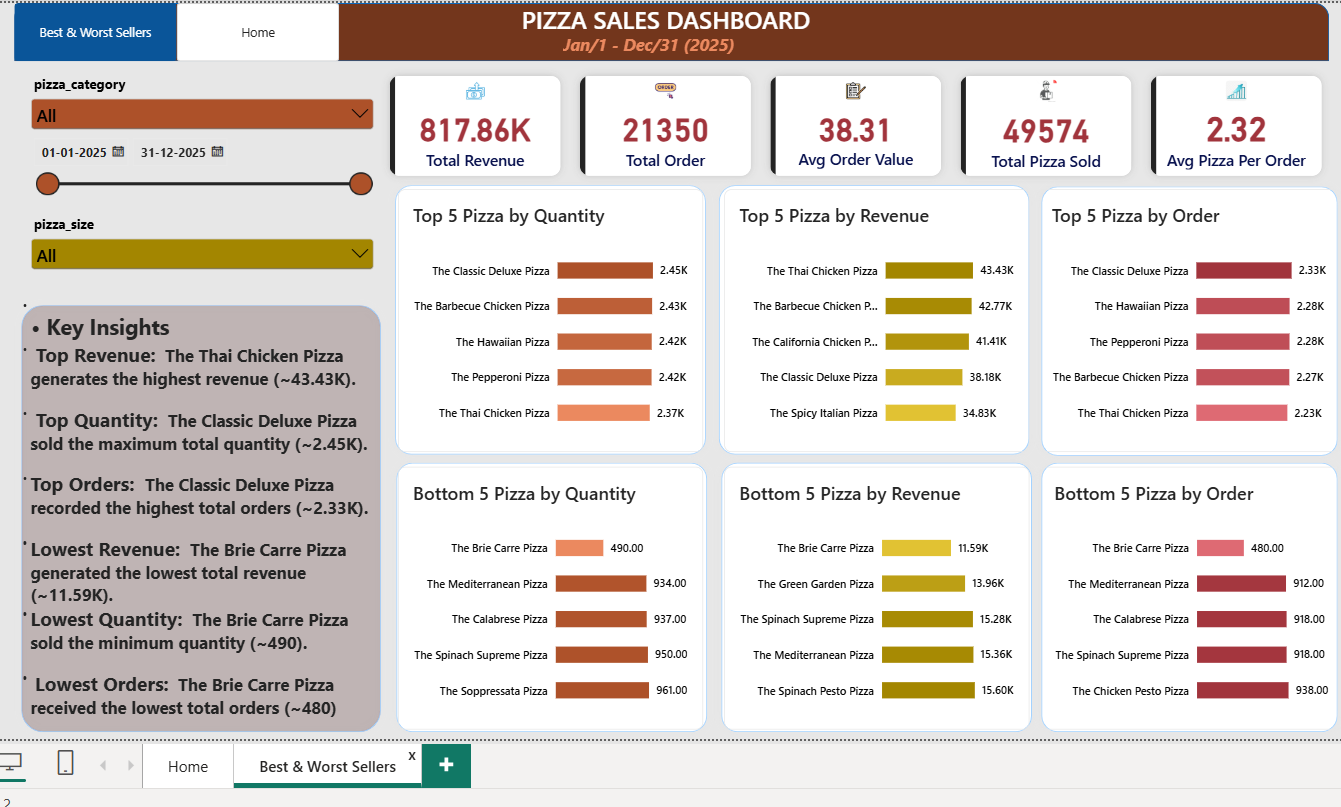

Layout of this report page (visuals, bound fields, positions):
{"tool":"powerbi","page":{"name":"Best & Worst Sellers","canvas":[1500,820],"ordinal":1},"visuals":[{"type":"cardVisual","fields":{"Data":["pizza_db pizza_sales.Total Revenue","pizza_db pizza_sales.Total Order","pizza_db pizza_sales.Avg Order Value","pizza_db pizza_sales.Total Pizza Sold","pizza_db pizza_sales.Avg Pizza Per Order"]},"box":[420.6,65.5,1072,143],"z":0},{"type":"shape","box":[17.5,0,1465,65],"z":1000},{"type":"textbox","box":[583.5,0,332.8,37.6],"z":2000},{"type":"textbox","box":[629.5,33.4,204.7,32],"z":3000},{"type":"shape","box":[434.5,195,362.1,316.1],"z":4000},{"type":"shape","box":[18.1,328.7,416.4,491.6],"z":5000},{"type":"slicer","fields":{"Values":["pizza_db pizza_sales.pizza_category"]},"box":[32,79.4,391.3,66.8],"z":6000},{"type":"slicer","fields":{"Values":["pizza_db pizza_sales.order_date"]},"box":[32,146.2,388.6,72.4],"z":7000},{"type":"slicer","fields":{"Values":["pizza_db pizza_sales.pizza_size"]},"box":[32,235.4,391.3,66.8],"z":8000},{"type":"textbox","box":[18.1,328.7,417.8,491.6],"z":9000},{"type":"shape","box":[795.2,195,362,316.1],"z":10000},{"type":"shape","box":[1154.5,196.4,346,316.1],"z":11000},{"type":"shape","box":[435.9,504.1,362.1,316.1],"z":12000},{"type":"shape","box":[798,504.1,362,316.1],"z":13000},{"type":"shape","box":[1154.5,504.1,346,316.1],"z":14000},{"type":"clusteredBarChart","title":"Top 5 Pizza by Quantity","fields":{"Category":["pizza_db pizza_sales.pizza_name"],"Y":["pizza_db pizza_sales.Total Pizza Sold"]},"box":[445.7,207.5,339.8,292.5],"z":15000},{"type":"clusteredBarChart","title":"Bottom 5 Pizza by Quantity","fields":{"Category":["pizza_db pizza_sales.pizza_name"],"Y":["pizza_db pizza_sales.Total Pizza Sold"]},"box":[445.7,516.7,339.8,292.5],"z":16000},{"type":"clusteredBarChart","title":"Top 5 Pizza by Revenue","fields":{"Category":["pizza_db pizza_sales.pizza_name"],"Y":["pizza_db pizza_sales.Total Revenue"]},"box":[808.9,207.4,339.8,292.5],"z":17000},{"type":"clusteredBarChart","title":"Bottom 5 Pizza by Revenue","fields":{"Category":["pizza_db pizza_sales.pizza_name"],"Y":["pizza_db pizza_sales.Total Revenue"]},"box":[808.9,516.2,339.8,292.5],"z":18000},{"type":"clusteredBarChart","title":"Top 5 Pizza by Order","fields":{"Category":["pizza_db pizza_sales.pizza_name"],"Y":["pizza_db pizza_sales.Total Order"]},"box":[1157.8,207.4,339.8,292.5],"z":19000},{"type":"clusteredBarChart","title":"Bottom 5 Pizza by Order","fields":{"Category":["pizza_db pizza_sales.pizza_name"],"Y":["pizza_db pizza_sales.Total Order"]},"box":[1159.4,516.2,339.8,292.5],"z":20000},{"type":"pageNavigator","box":[18.1,0,181,65.5],"z":20001},{"type":"pageNavigator","box":[199.2,0,181,65.5],"z":20002}]}

Visuals, with their boxes on the page's 1500x820 design canvas (x1, y1, x2, y2). These are canvas units, not pixel positions in the 1341x807 screenshot, which may show the page scaled, cropped or inside an application window:
cardVisual - pizza_db pizza_sales.Total Revenue x pizza_db pizza_sales.Total Order: (left=421, top=66, right=1493, bottom=208)
shape: (left=18, top=0, right=1482, bottom=65)
textbox: (left=584, top=0, right=916, bottom=38)
textbox: (left=630, top=33, right=834, bottom=65)
shape: (left=434, top=195, right=797, bottom=511)
shape: (left=18, top=329, right=434, bottom=820)
slicer - pizza_db pizza_sales.pizza_category: (left=32, top=79, right=423, bottom=146)
slicer - pizza_db pizza_sales.order_date: (left=32, top=146, right=421, bottom=219)
slicer - pizza_db pizza_sales.pizza_size: (left=32, top=235, right=423, bottom=302)
textbox: (left=18, top=329, right=436, bottom=820)
shape: (left=795, top=195, right=1157, bottom=511)
shape: (left=1154, top=196, right=1500, bottom=512)
shape: (left=436, top=504, right=798, bottom=820)
shape: (left=798, top=504, right=1160, bottom=820)
shape: (left=1154, top=504, right=1500, bottom=820)
"Top 5 Pizza by Quantity" clusteredBarChart: (left=446, top=208, right=786, bottom=500)
"Bottom 5 Pizza by Quantity" clusteredBarChart: (left=446, top=517, right=786, bottom=809)
"Top 5 Pizza by Revenue" clusteredBarChart: (left=809, top=207, right=1149, bottom=500)
"Bottom 5 Pizza by Revenue" clusteredBarChart: (left=809, top=516, right=1149, bottom=809)
"Top 5 Pizza by Order" clusteredBarChart: (left=1158, top=207, right=1498, bottom=500)
"Bottom 5 Pizza by Order" clusteredBarChart: (left=1159, top=516, right=1499, bottom=809)
pageNavigator: (left=18, top=0, right=199, bottom=66)
pageNavigator: (left=199, top=0, right=380, bottom=66)
